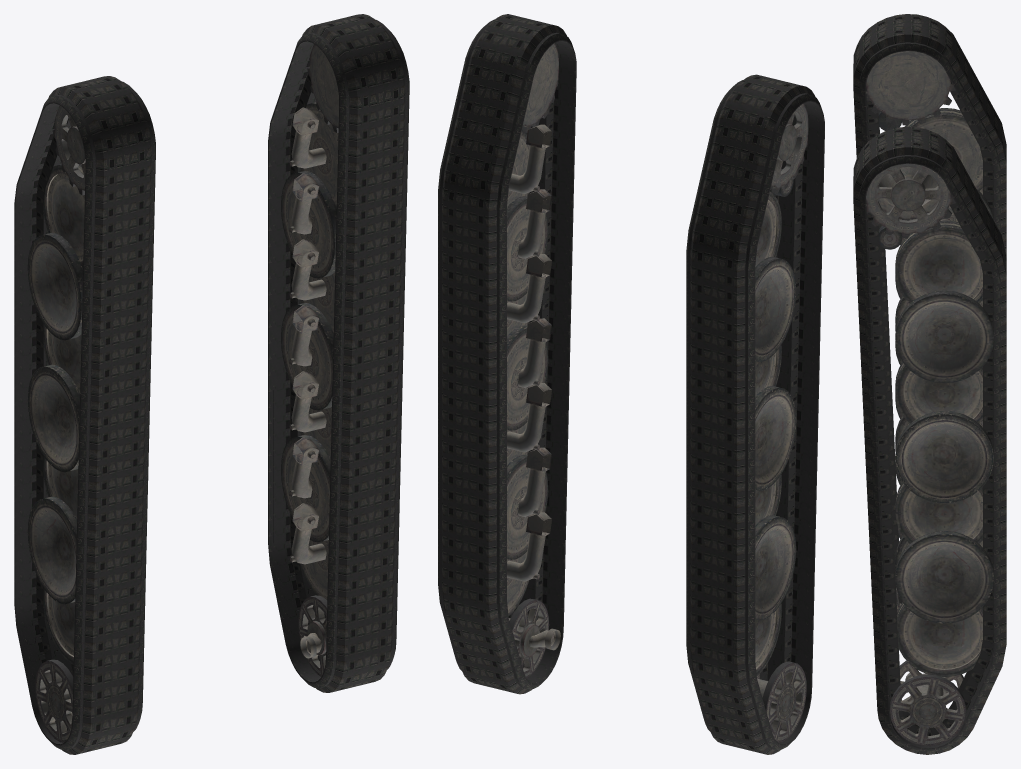
Rendered from Chassis.glb.
3 renders of one model, left to right at view 1: azimuth 30°, elevation 25°; view 2: azimuth 150°, elevation 25°; view 3: azimuth 270°, elevation 25°, orthographic. The views are drawn at different scales.
Parts seen in each view (by area): view 1: set_0_group_0, set_1_group_0, set_3_group_0, set_2_group_0; view 2: set_0_group_0, set_1_group_0, set_3_group_0, set_2_group_0; view 3: set_3_group_0, set_1_group_0, set_0_group_0, set_2_group_0.
Boxes of the visible parts, x1,y1,x2,y2 form: set_0_group_0: [14, 76, 155, 754]; set_1_group_0: [268, 14, 409, 692]; set_3_group_0: [281, 44, 338, 676]; set_2_group_0: [27, 106, 85, 742]; set_0_group_0: [686, 74, 824, 754]; set_1_group_0: [438, 14, 576, 694]; set_3_group_0: [507, 43, 560, 678]; set_2_group_0: [755, 103, 808, 742]; set_3_group_0: [866, 163, 993, 746]; set_1_group_0: [853, 126, 1006, 754]; set_0_group_0: [853, 14, 1006, 603]; set_2_group_0: [866, 51, 993, 612].
Bounding box in the file's own units: 3.08 × 6.08 × 1.39.
4 materials, 4 textured.
